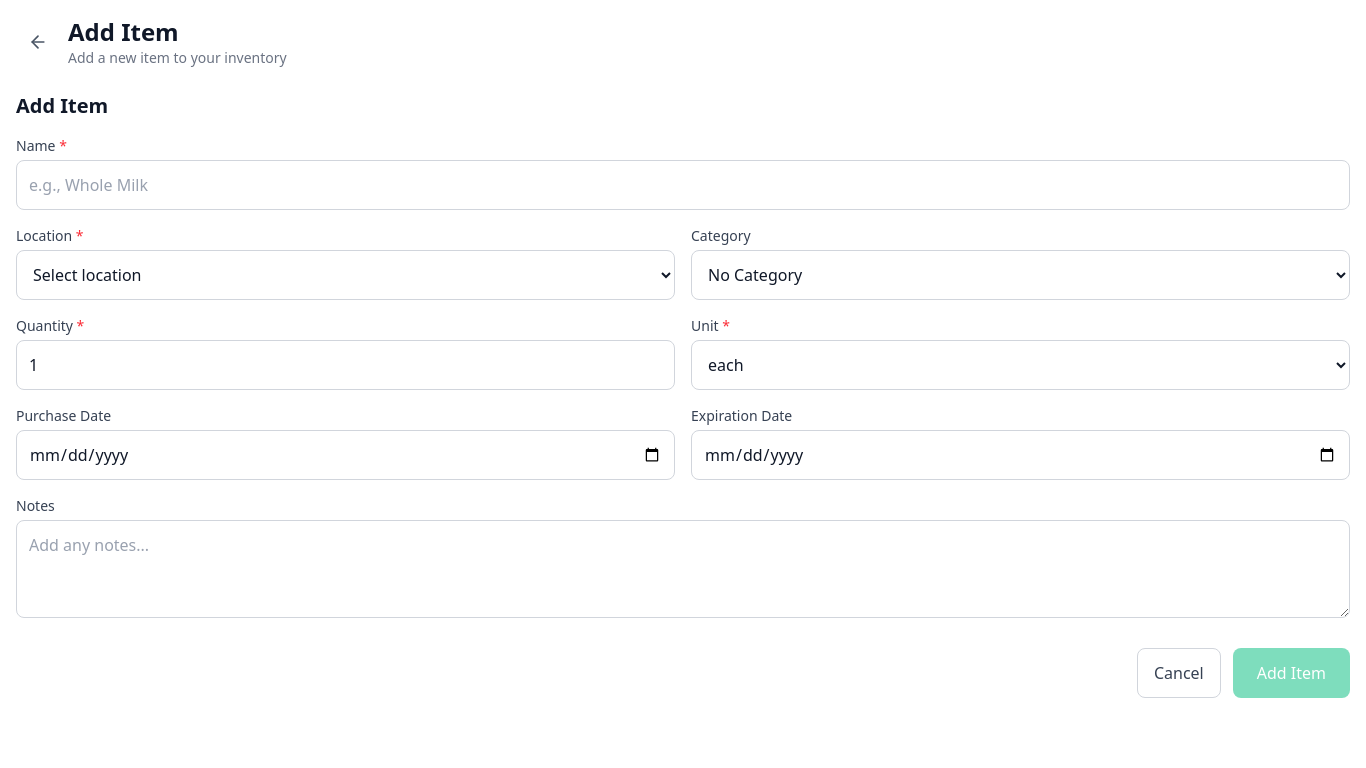
Scenario: AddItemPage › shows household save copy when createItem rejects an Appwrite-like error
Type "Milk" into the field labelled "Name *" at (683, 185), box [16,160,1350,210]
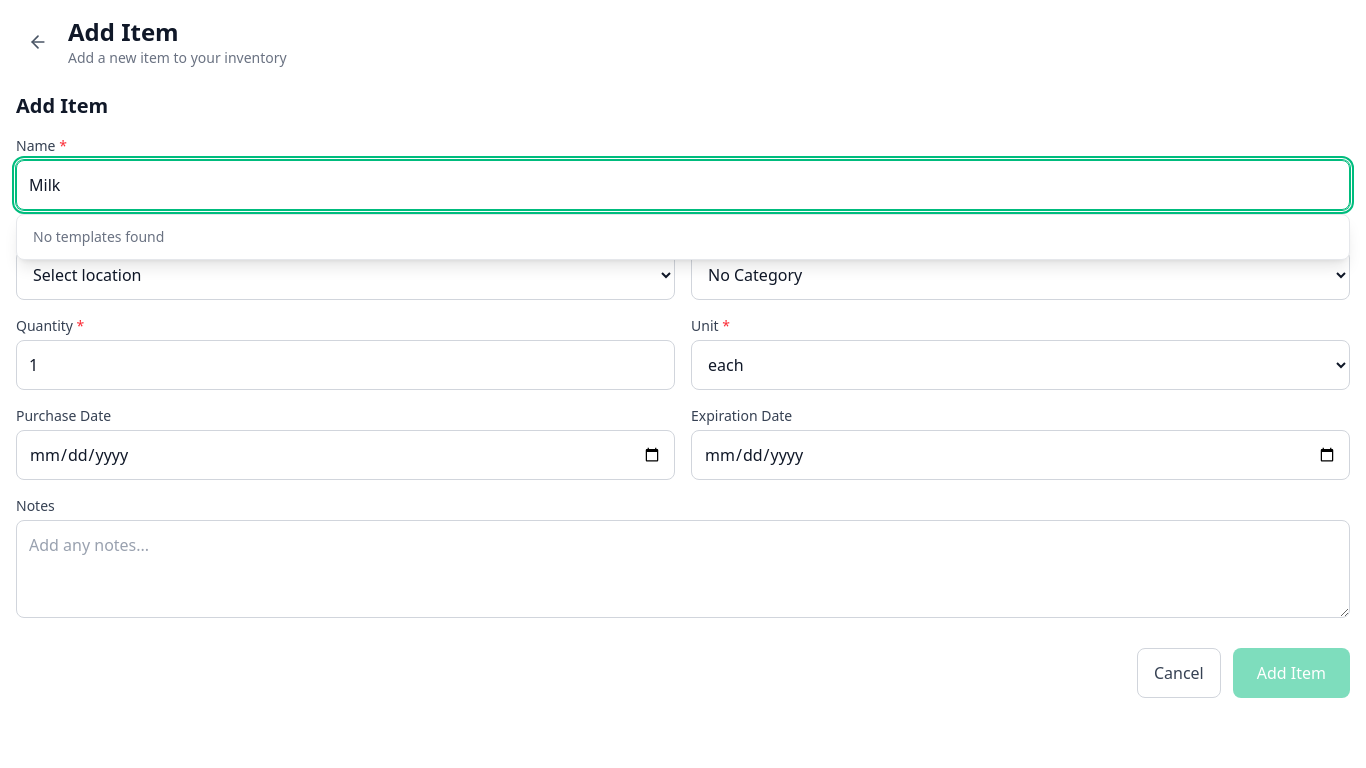
Select "Fridge" in the dropdown labelled "Location *" at (346, 275), box [16,250,675,300]
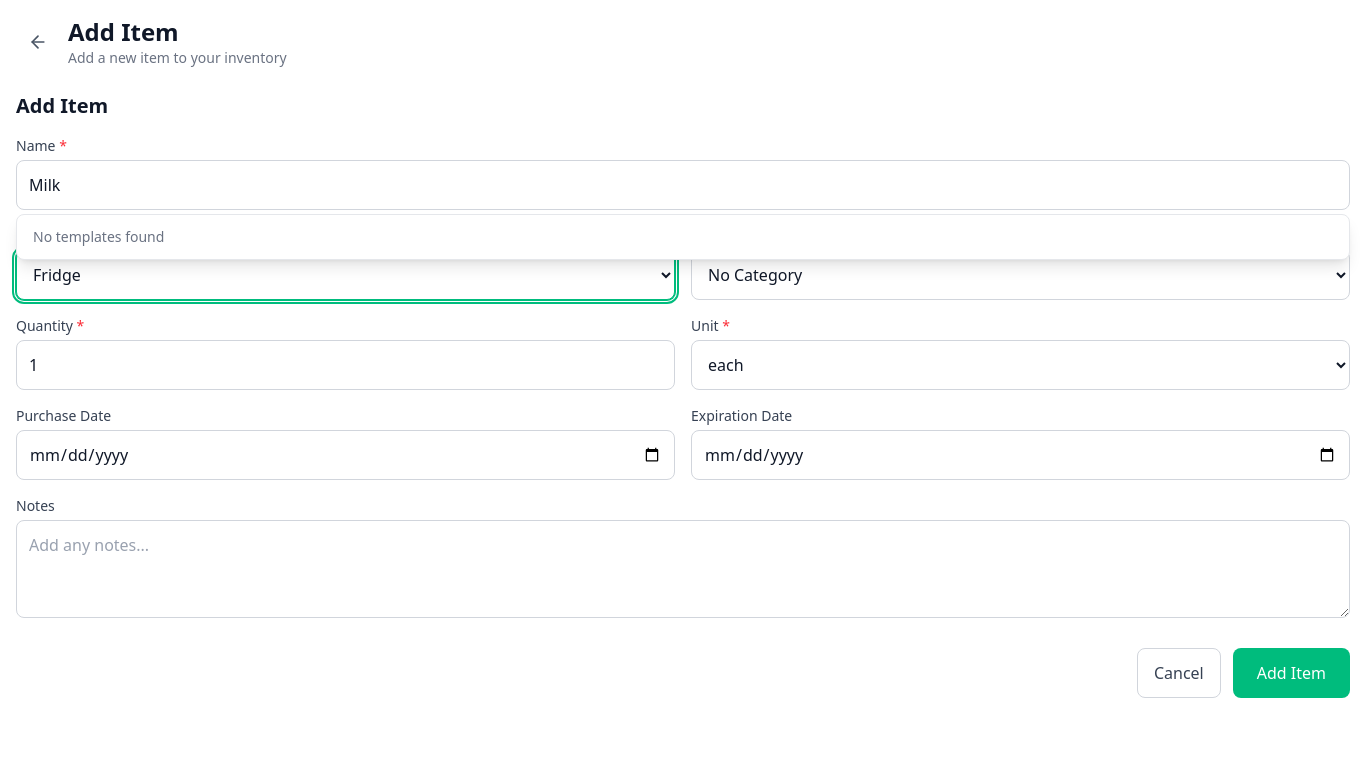
Click the button "Add Item" at (1291, 673), box [1233,648,1350,698]
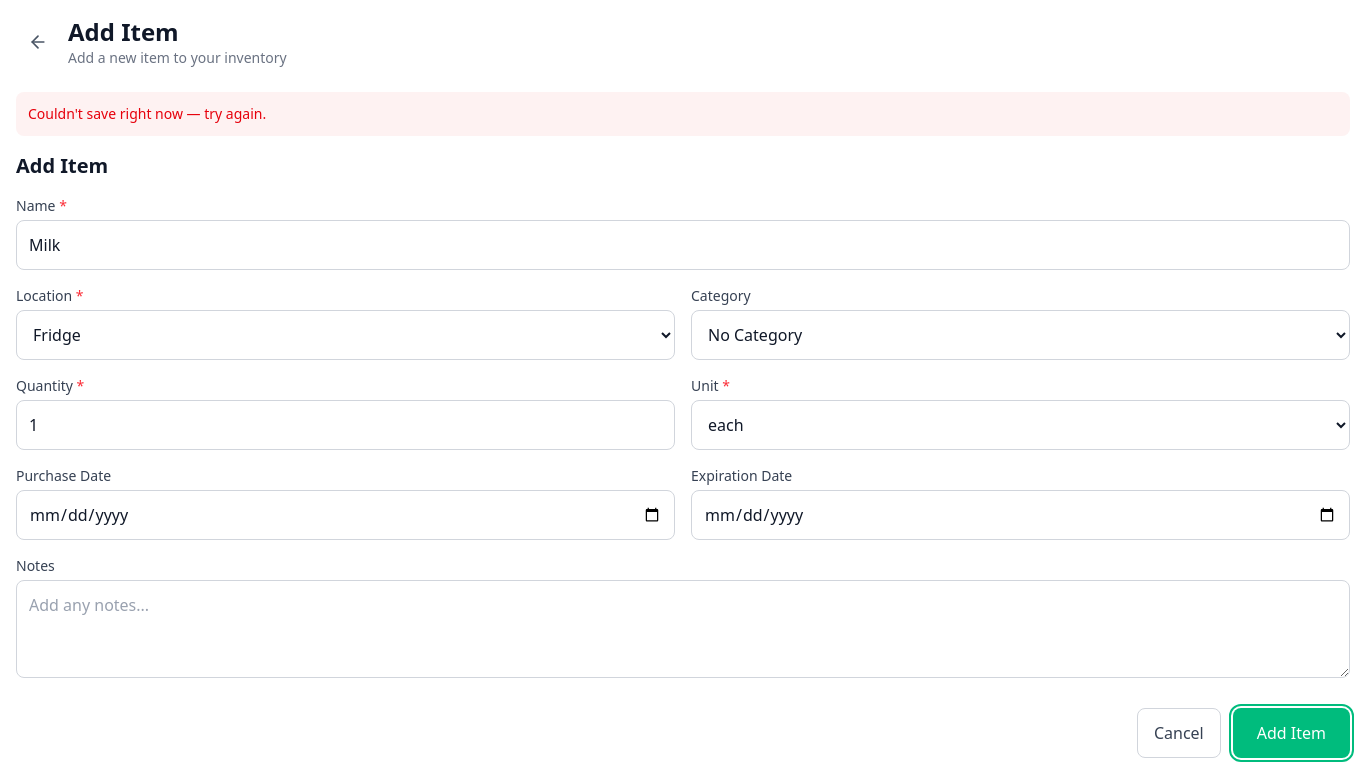
Now the text "Couldn't save right now — try again." is shown, box [16,92,1350,136]
